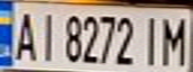2: (115, 12, 139, 65), (78, 10, 100, 64)
7: (97, 11, 118, 65)
8: (60, 10, 84, 64)
A: (9, 7, 39, 62)
I: (136, 12, 163, 68), (33, 8, 60, 63)
M: (157, 12, 190, 66)
